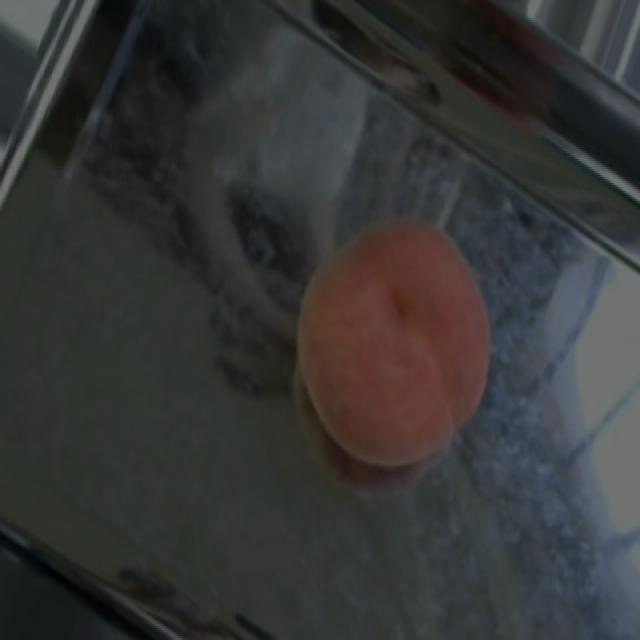Fruit: (256, 189, 512, 493)
